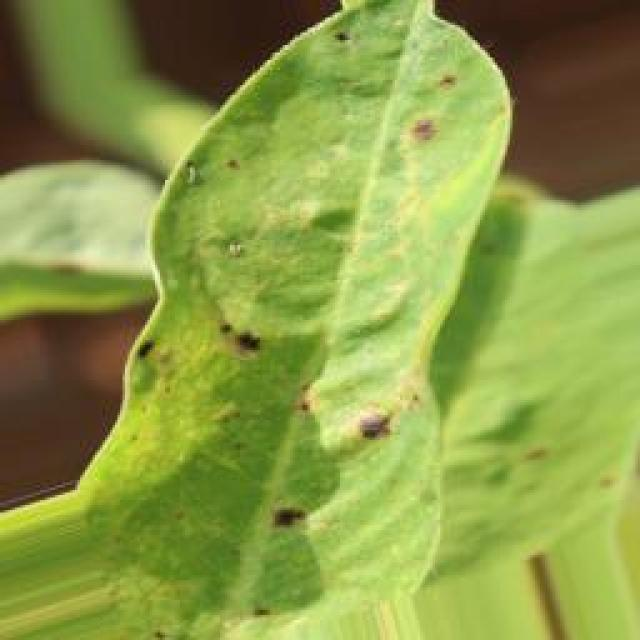Sigatoka: (378, 55, 474, 153), (313, 399, 434, 467), (557, 430, 640, 515), (202, 117, 272, 209), (254, 479, 325, 558), (200, 293, 267, 363), (488, 411, 553, 475), (211, 584, 278, 636), (130, 323, 182, 388), (324, 22, 374, 72), (290, 376, 334, 432)
